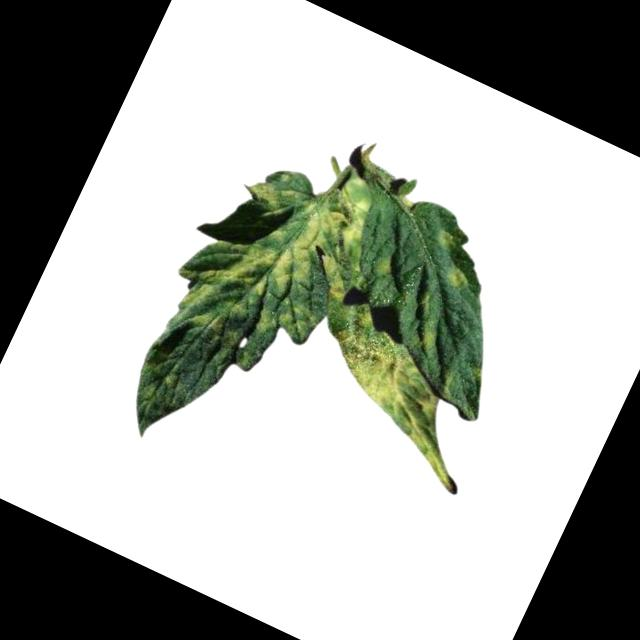Leaf_Mold: (159, 125, 392, 380), (294, 313, 518, 498), (241, 172, 288, 212), (367, 248, 399, 282), (440, 265, 475, 296), (432, 226, 456, 248)
